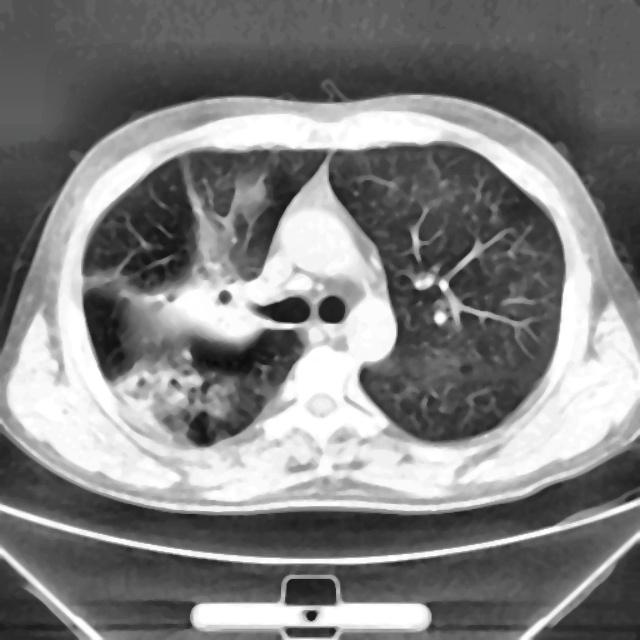covid: (1, 91, 638, 516)
